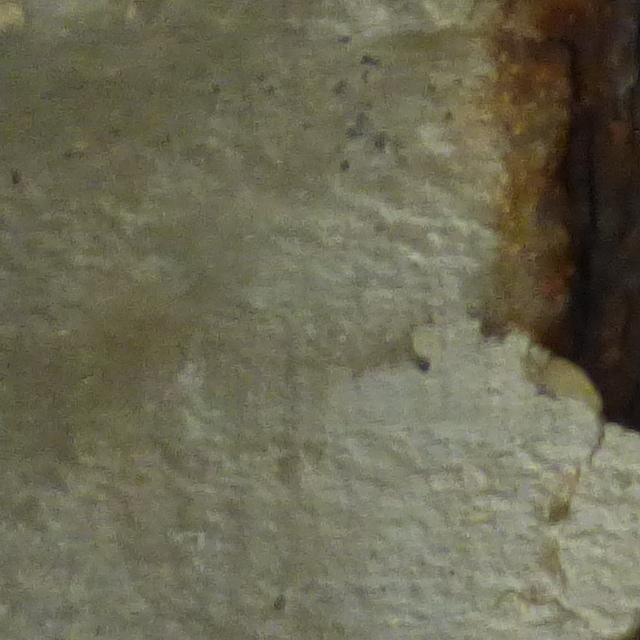Rust: (485, 5, 640, 437)
